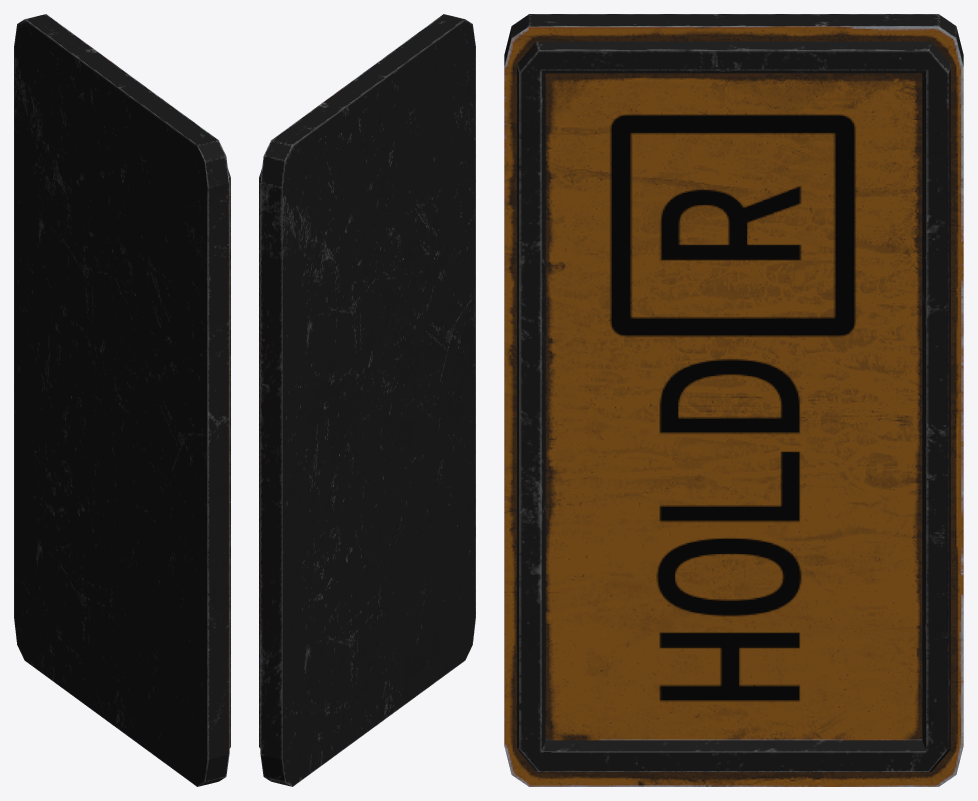
Rendered from HoldR.gltf.
3 views of the same model, side by side, from view 1: azimuth 30°, elevation 25°; view 2: azimuth 150°, elevation 25°; view 3: azimuth 270°, elevation 25° (orthographic). The views are drawn at different scales.
Parts seen in each view (by area): view 1: Cube.010; view 2: Cube.010; view 3: Cube.010.
Boxes of the visible parts, x1=… form: Cube.010: x1=14, y1=14, x2=230, y2=786; Cube.010: x1=259, y1=14, x2=475, y2=786; Cube.010: x1=504, y1=14, x2=963, y2=786.
Size of the model in its own units: 0.1759 by 3.65 by 2.
1 material, 1 textured.
